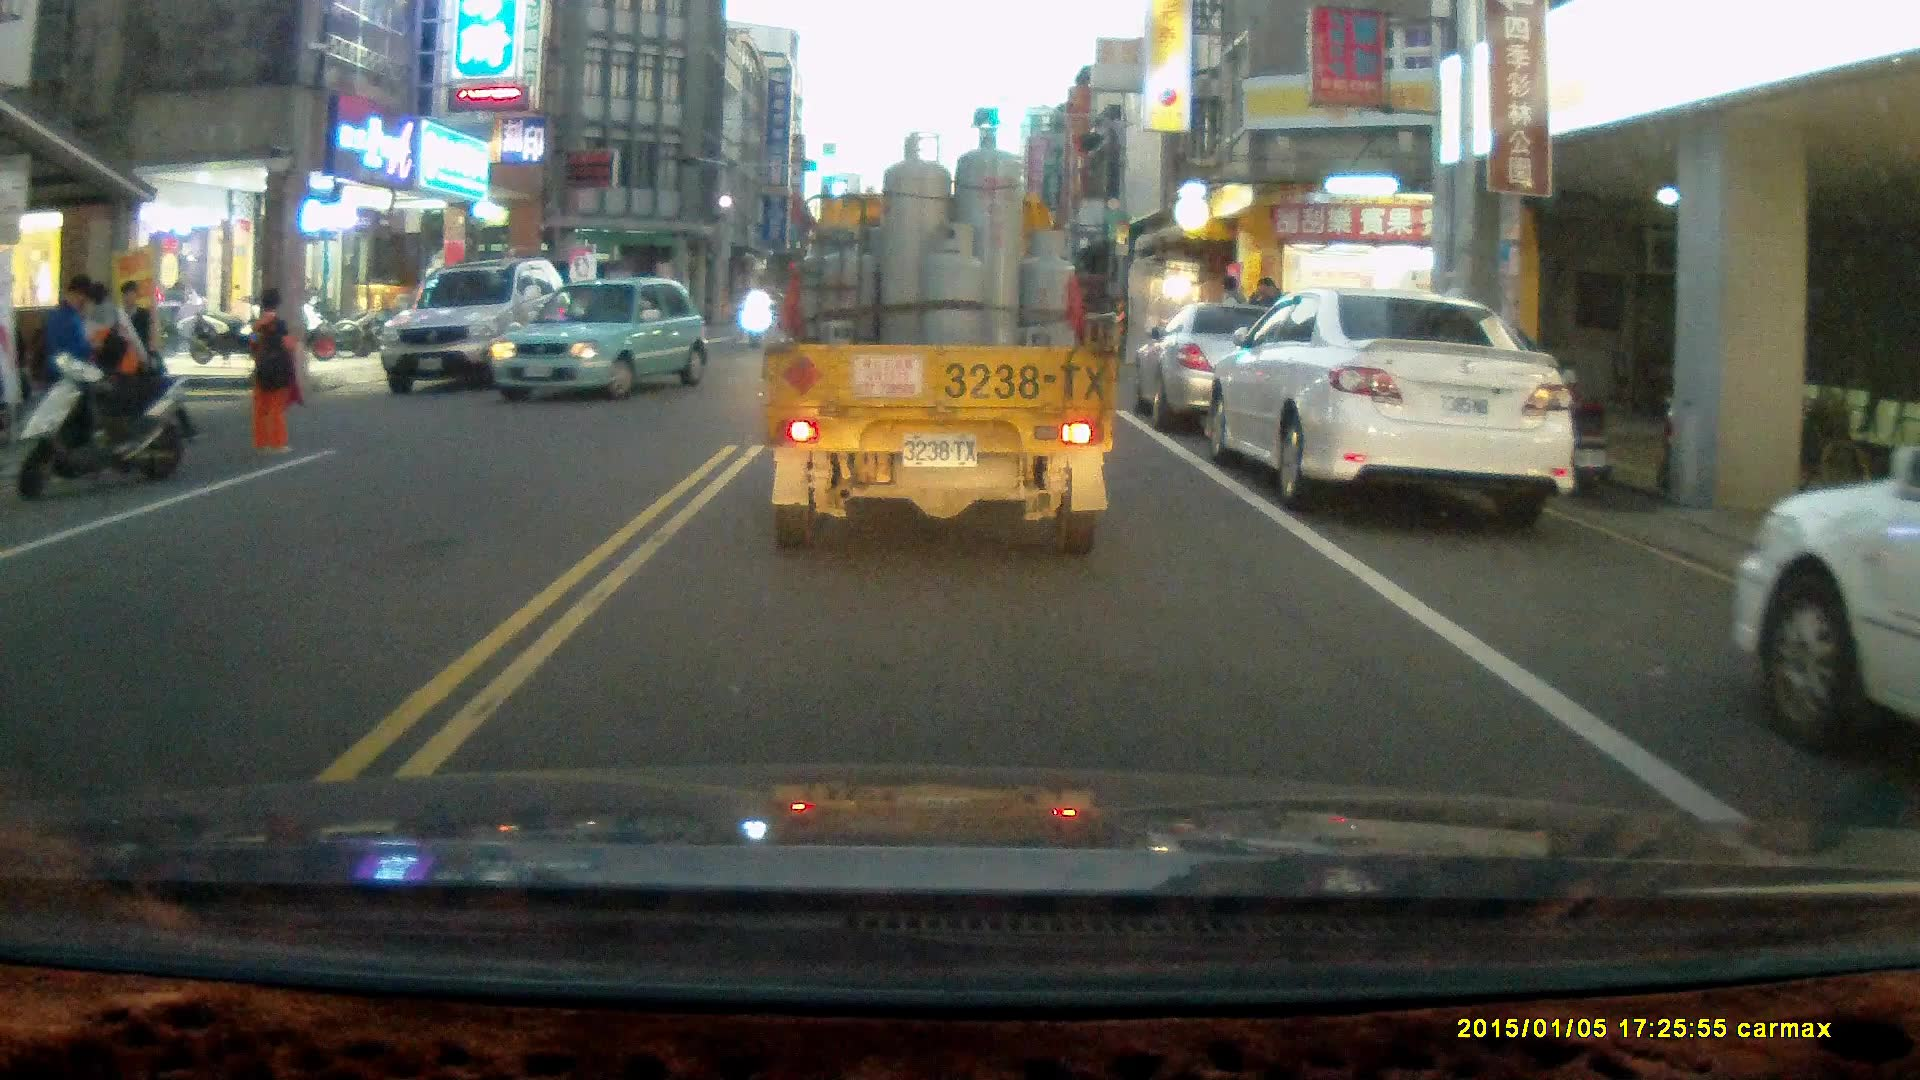pedestrian: (26, 273, 110, 468), (240, 286, 310, 455), (100, 279, 153, 424)
vehicle: (762, 122, 1121, 558), (1212, 283, 1581, 525), (1736, 418, 1920, 768), (1136, 299, 1388, 439), (383, 259, 579, 397), (494, 279, 704, 406)
